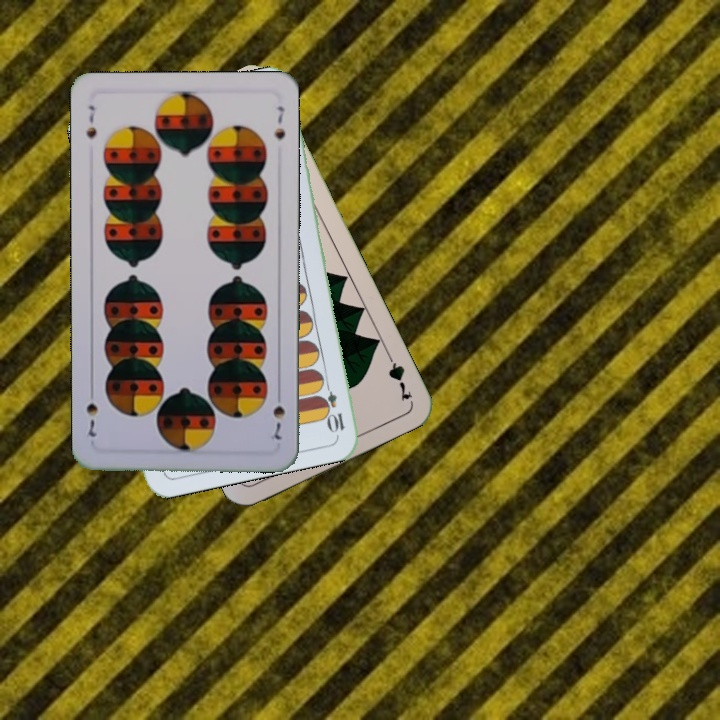E10: (319, 376, 347, 435)
G7: (381, 347, 415, 404)
S7: (269, 387, 288, 443), (82, 101, 99, 140)
